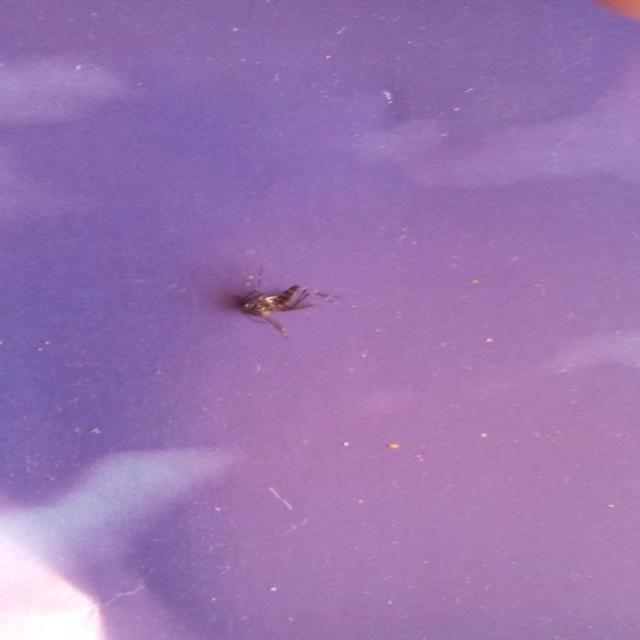albopictus: (212, 260, 349, 345)
